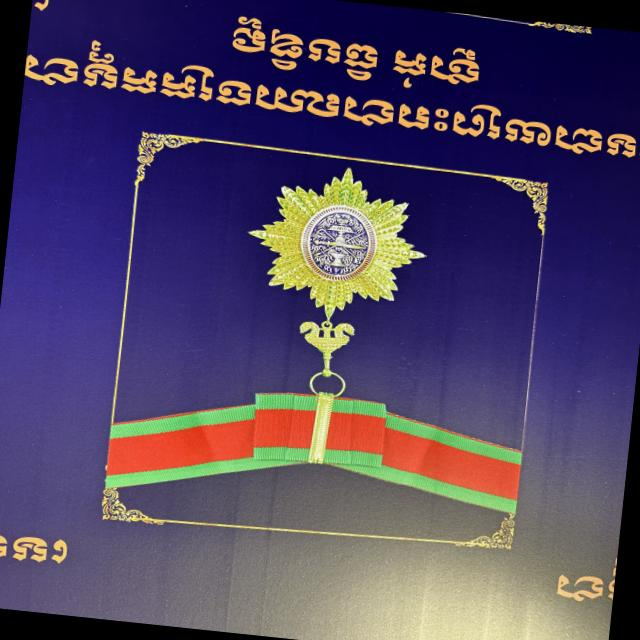1: (208, 3, 515, 90)
Yolov11_80vkh: (24, 26, 640, 167)
